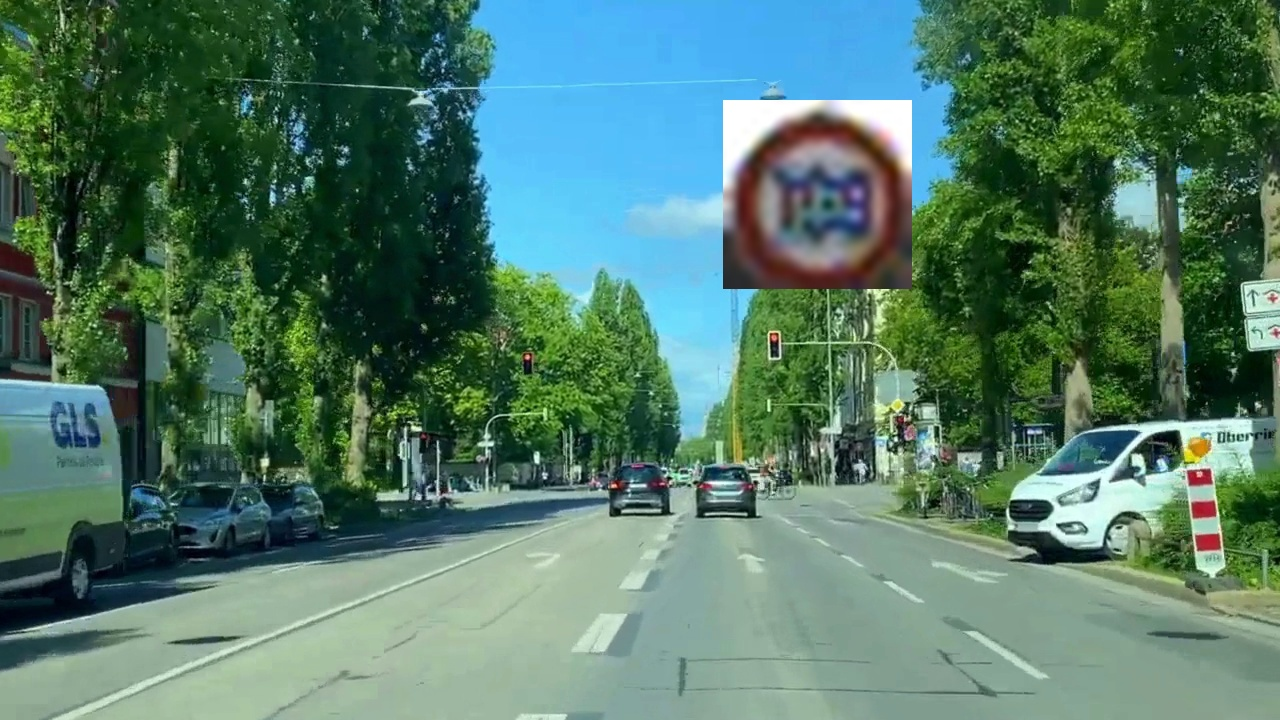Speed 100: (723, 100, 912, 289)
